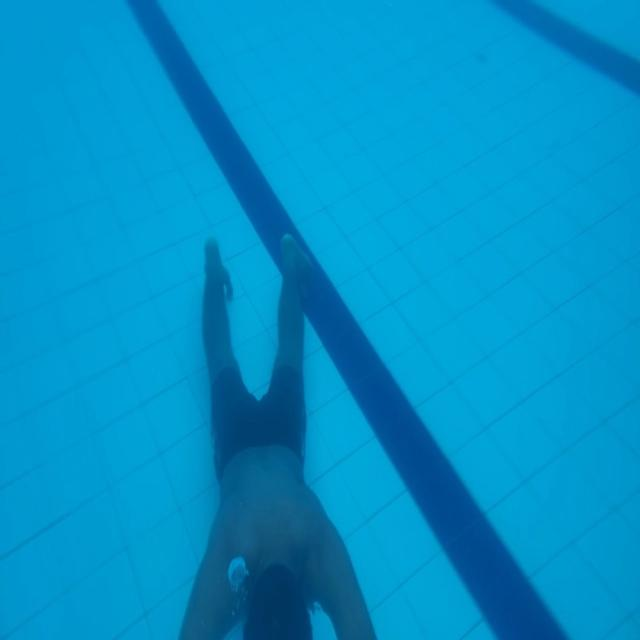Drowning: (182, 234, 377, 640)
